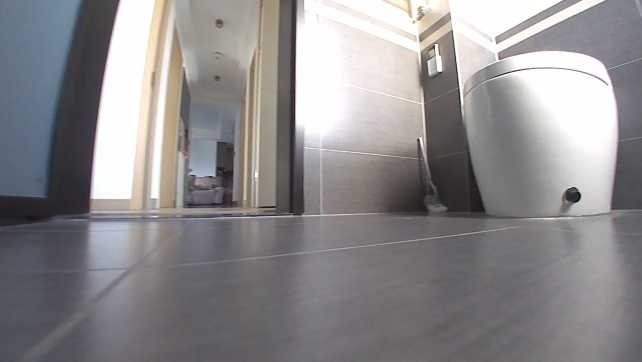toilet: (460, 45, 621, 219)
